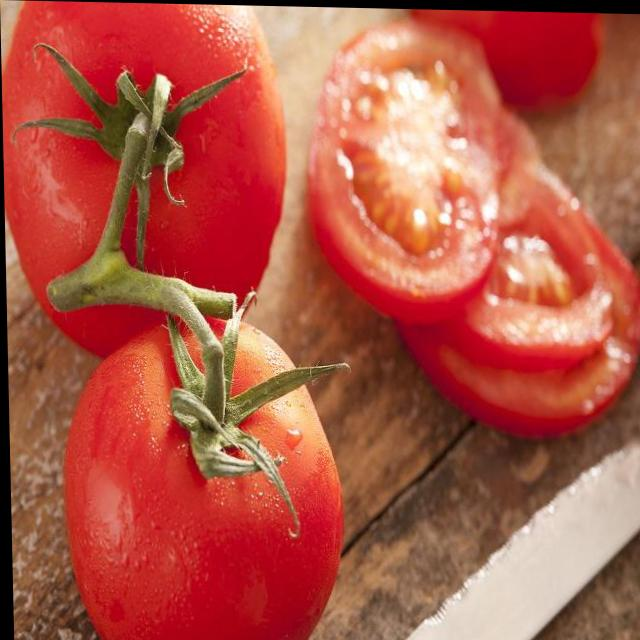kirmizi: (46, 335, 389, 640)
